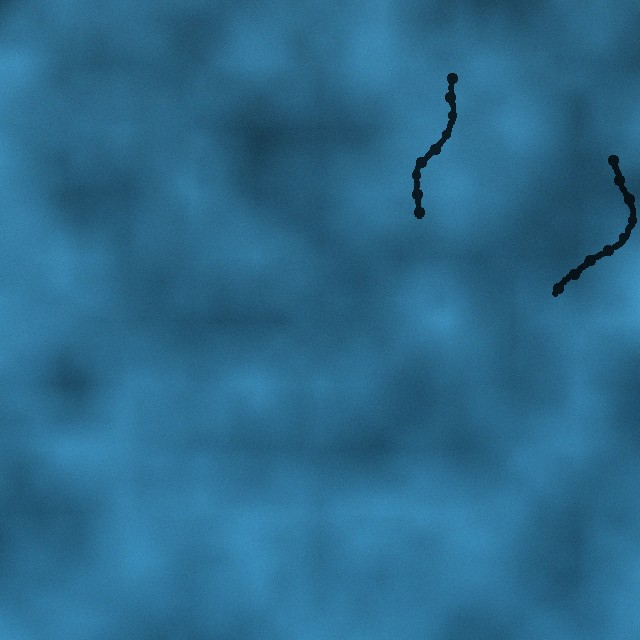crack: (549, 155, 638, 299), (410, 73, 458, 222)
